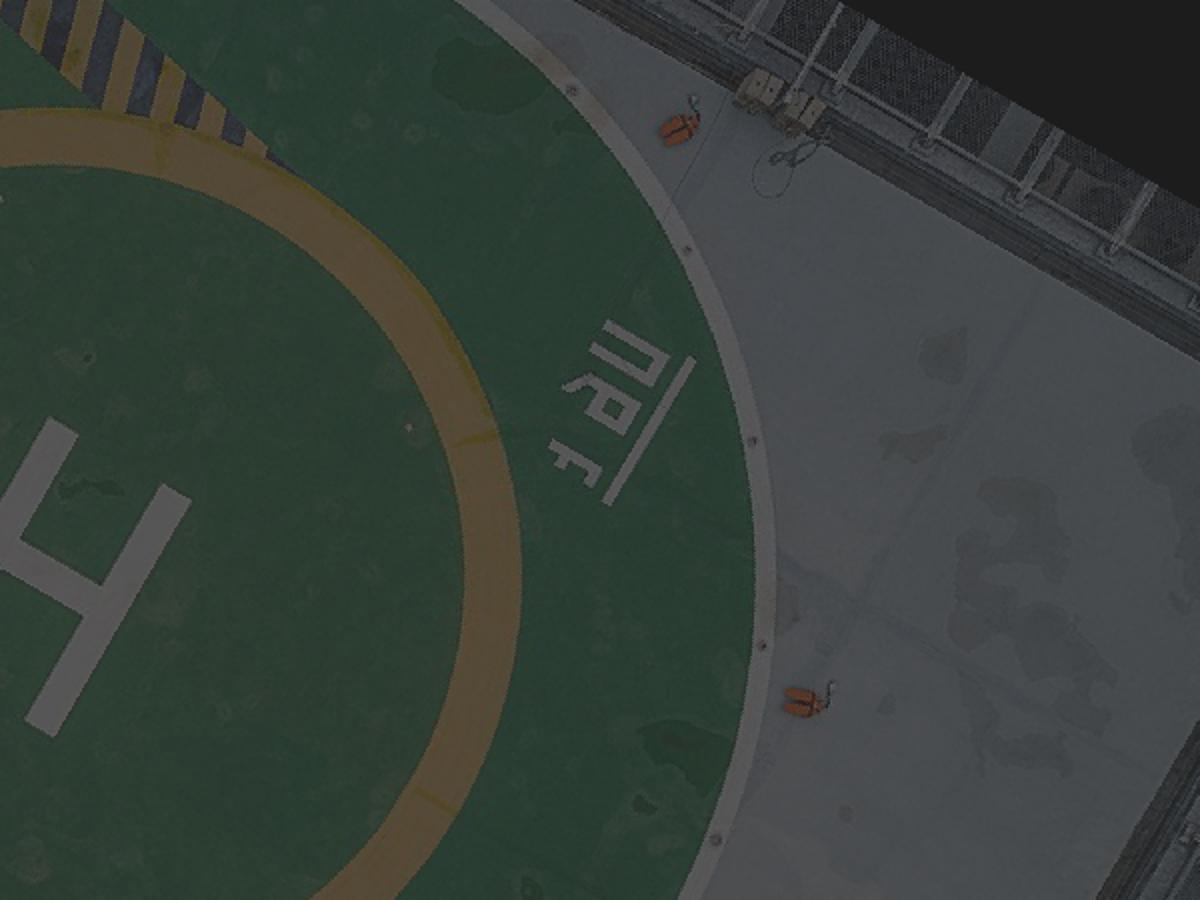Apron: (5, 106, 534, 900)
